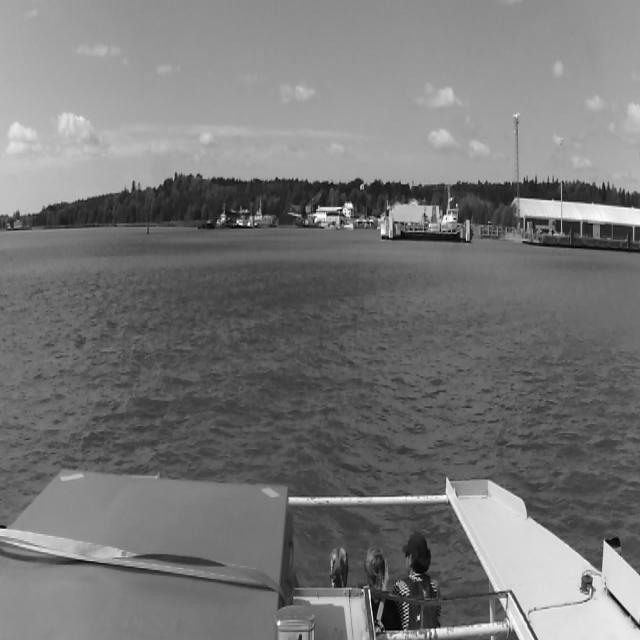buoy: (146, 224, 150, 235)
ship: (254, 199, 276, 228), (213, 204, 233, 230), (232, 215, 246, 229), (197, 220, 215, 230)
